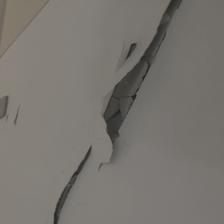Medium: (30, 4, 202, 218)
